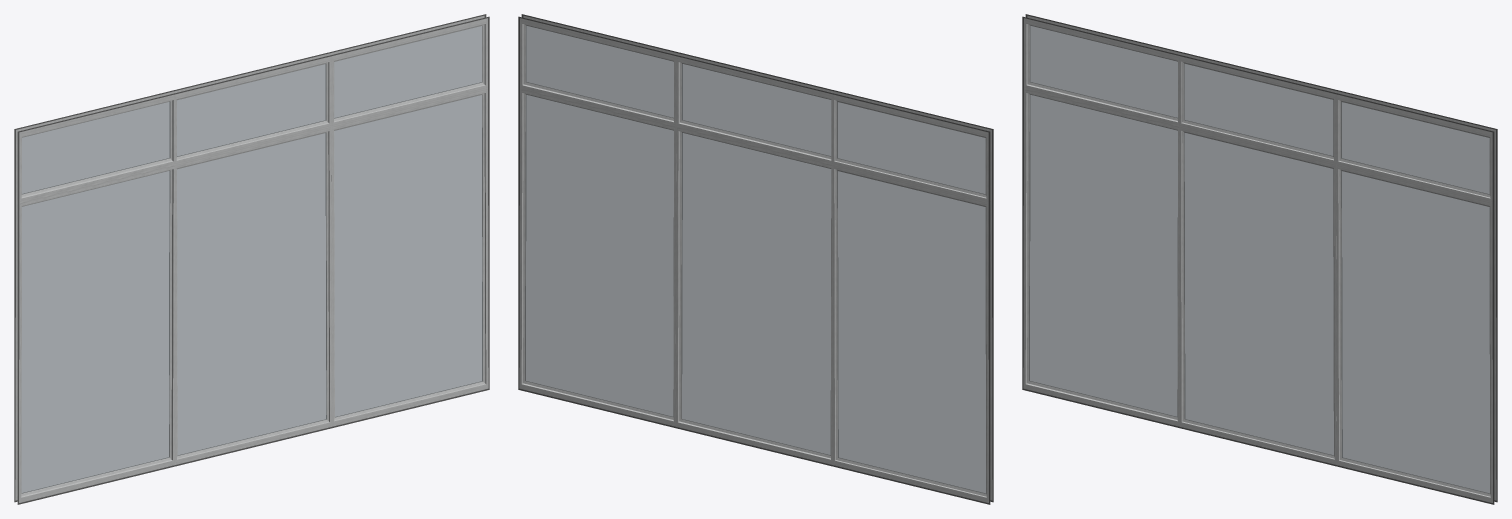
Rendered from Office_Wall_Glass.fbx.
3 renders of one model, left to right at view 1: azimuth 30°, elevation 25°; view 2: azimuth 150°, elevation 25°; view 3: azimuth 330°, elevation 25°, orthographic.
Parts seen in each view (by area): view 1: Office_Wall_GlassGlass, Office_Wall_Glass; view 2: Office_Wall_GlassGlass, Office_Wall_Glass; view 3: Office_Wall_GlassGlass, Office_Wall_Glass.
Part boxes in pixels (bbox=[...]): Office_Wall_GlassGlass: bbox=[21, 26, 482, 493]; Office_Wall_Glass: bbox=[14, 14, 489, 504]; Office_Wall_GlassGlass: bbox=[525, 25, 985, 493]; Office_Wall_Glass: bbox=[518, 14, 993, 504]; Office_Wall_GlassGlass: bbox=[1029, 25, 1489, 493]; Office_Wall_Glass: bbox=[1022, 14, 1497, 504].
Bounding box in the file's own units: 350 × 264 × 4.39.
